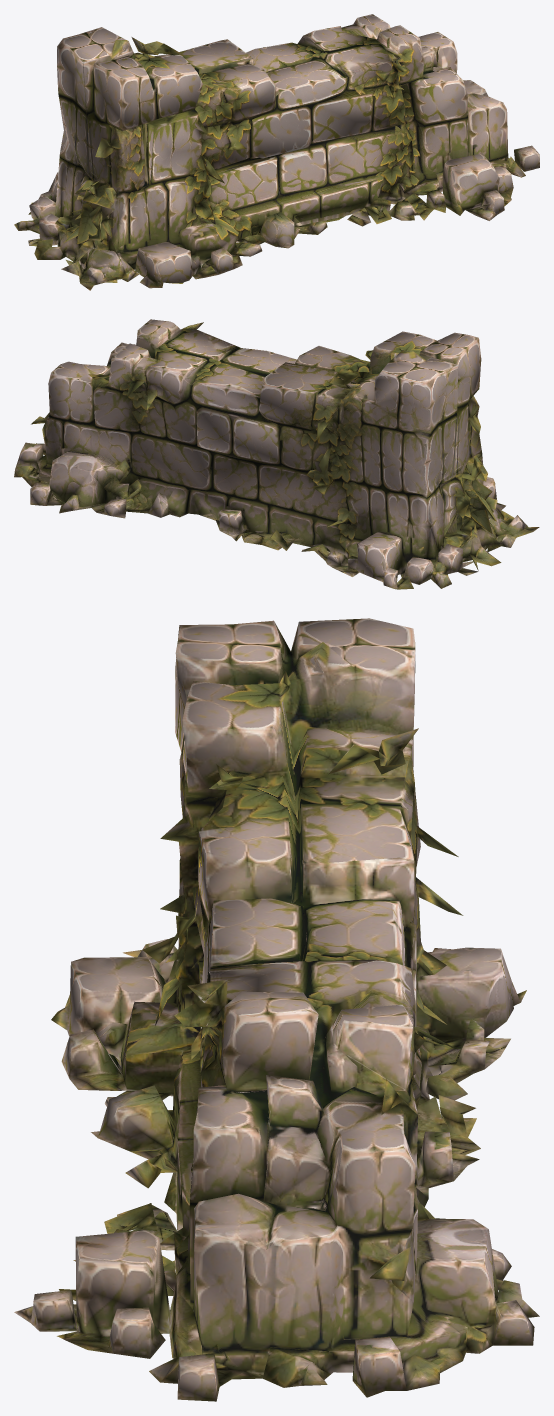
The model's file is SM_IvyStoneWall.fbx.
3 renders of one model, top to bottom at view 1: azimuth 30°, elevation 25°; view 2: azimuth 150°, elevation 25°; view 3: azimuth 270°, elevation 25°, orthographic. The views are drawn at different scales.
Parts seen in each view (by area): view 1: Mesh_0; view 2: Mesh_0; view 3: Mesh_0.
Boxes of the visible parts, <box> form: Mesh_0: <box>14,14,539,290</box>; Mesh_0: <box>14,319,539,589</box>; Mesh_0: <box>14,618,539,1401</box>.
Bounding box in the file's own units: 187 × 74.01 × 91.46.
1 material, 1 textured.
